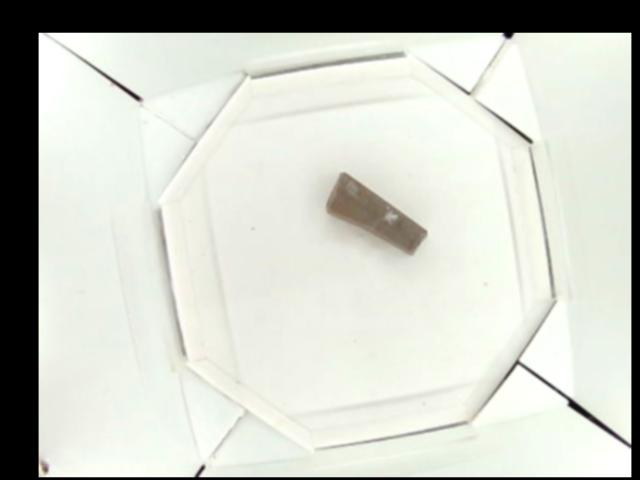China: (327, 170, 430, 255)
